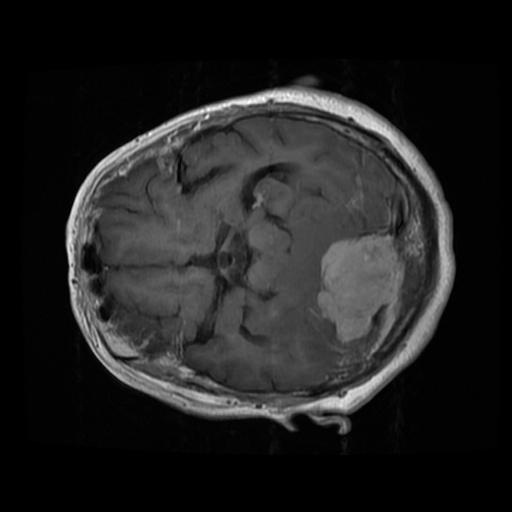meningioma: (315, 235, 401, 343)
